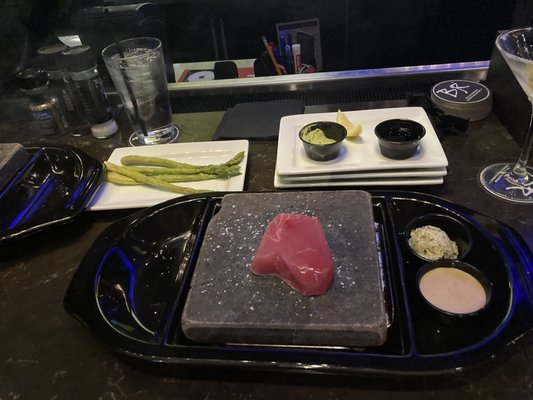pizza: (100, 36, 180, 147)
sushi: (429, 80, 494, 122), (374, 119, 426, 159), (298, 120, 347, 162)
